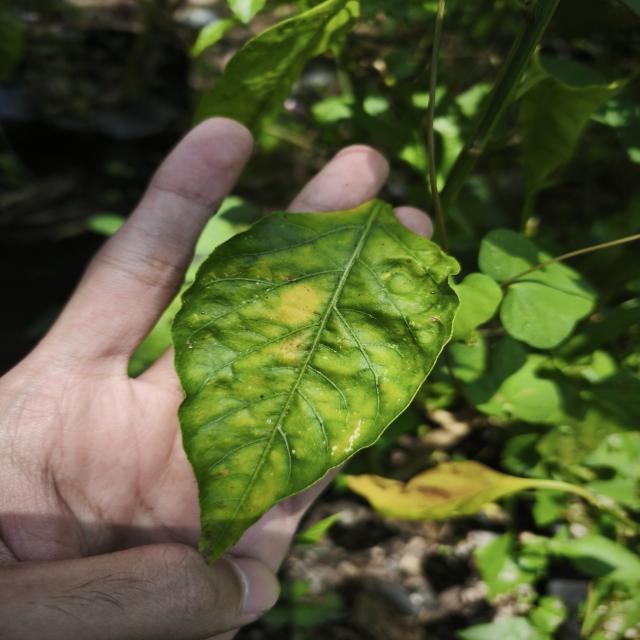Virus Kuning: (170, 198, 462, 564)
